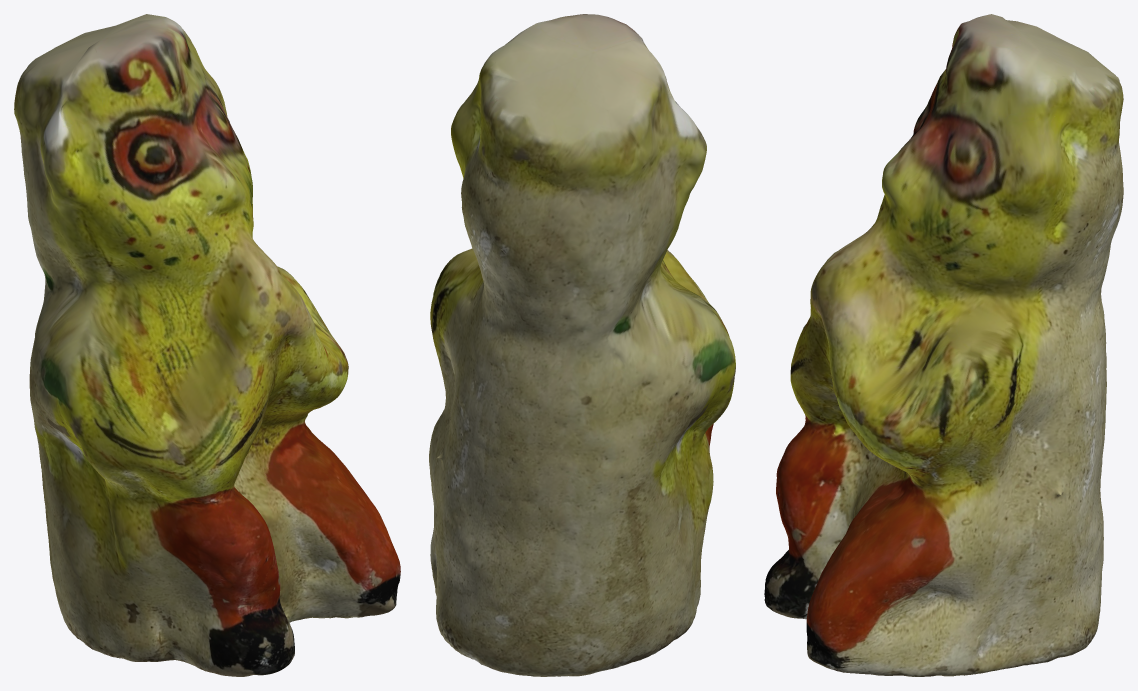
The picture shows the model from 3 angles, left to right: view 1: azimuth 30°, elevation 25°; view 2: azimuth 150°, elevation 25°; view 3: azimuth 270°, elevation 25°; orthographic projection. The views are drawn at different scales.
Bounding box in the file's own units: 0.3665 × 0.7234 × 0.3973.
Materials: 1 (1 with a texture image).
